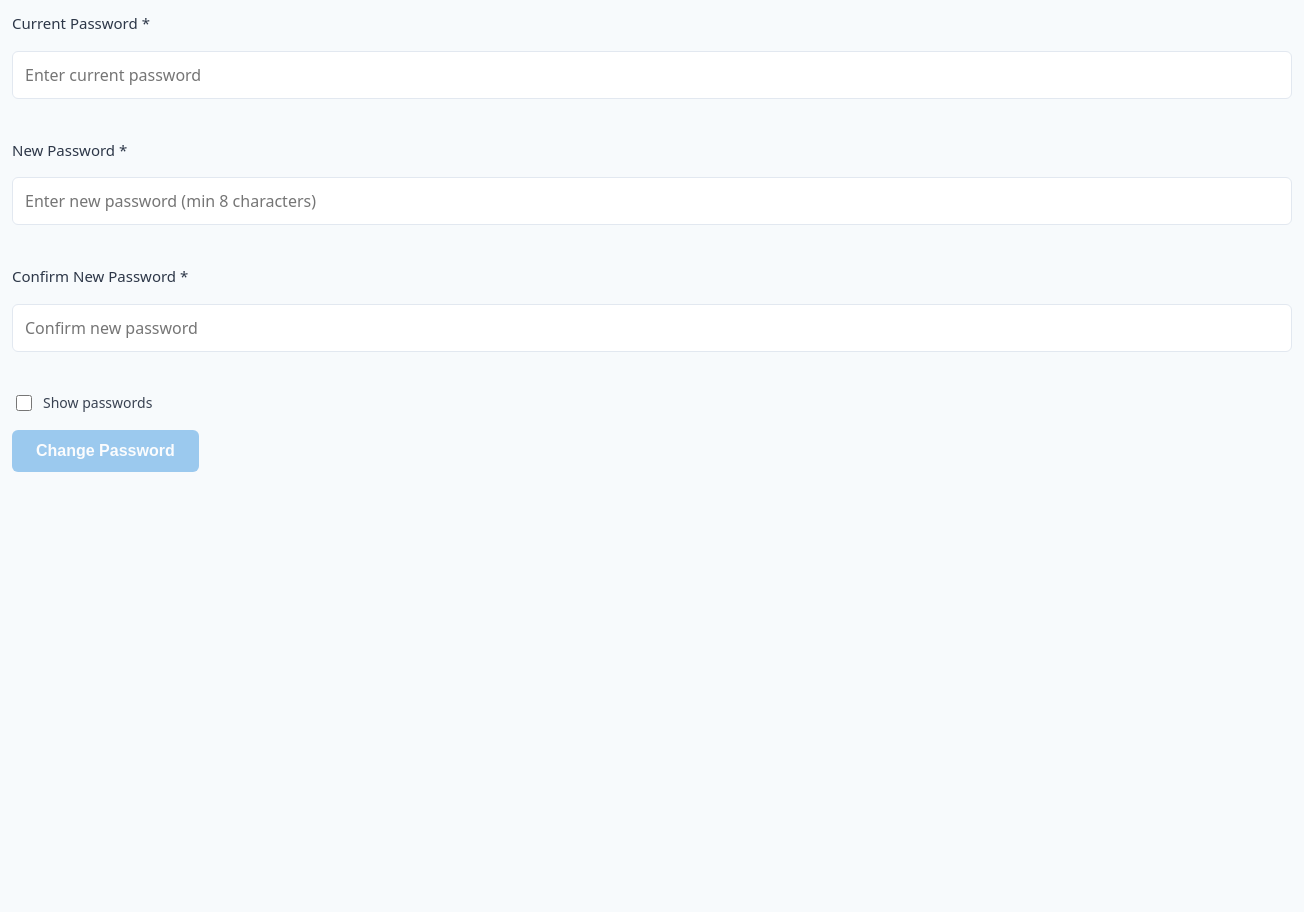
Test: PasswordChangeForm Component › should submit form and show success message
Type "old123456" into the password field labelled "Current Password *".
click(652, 74); type("old123456")  # box [12,50,1292,98]
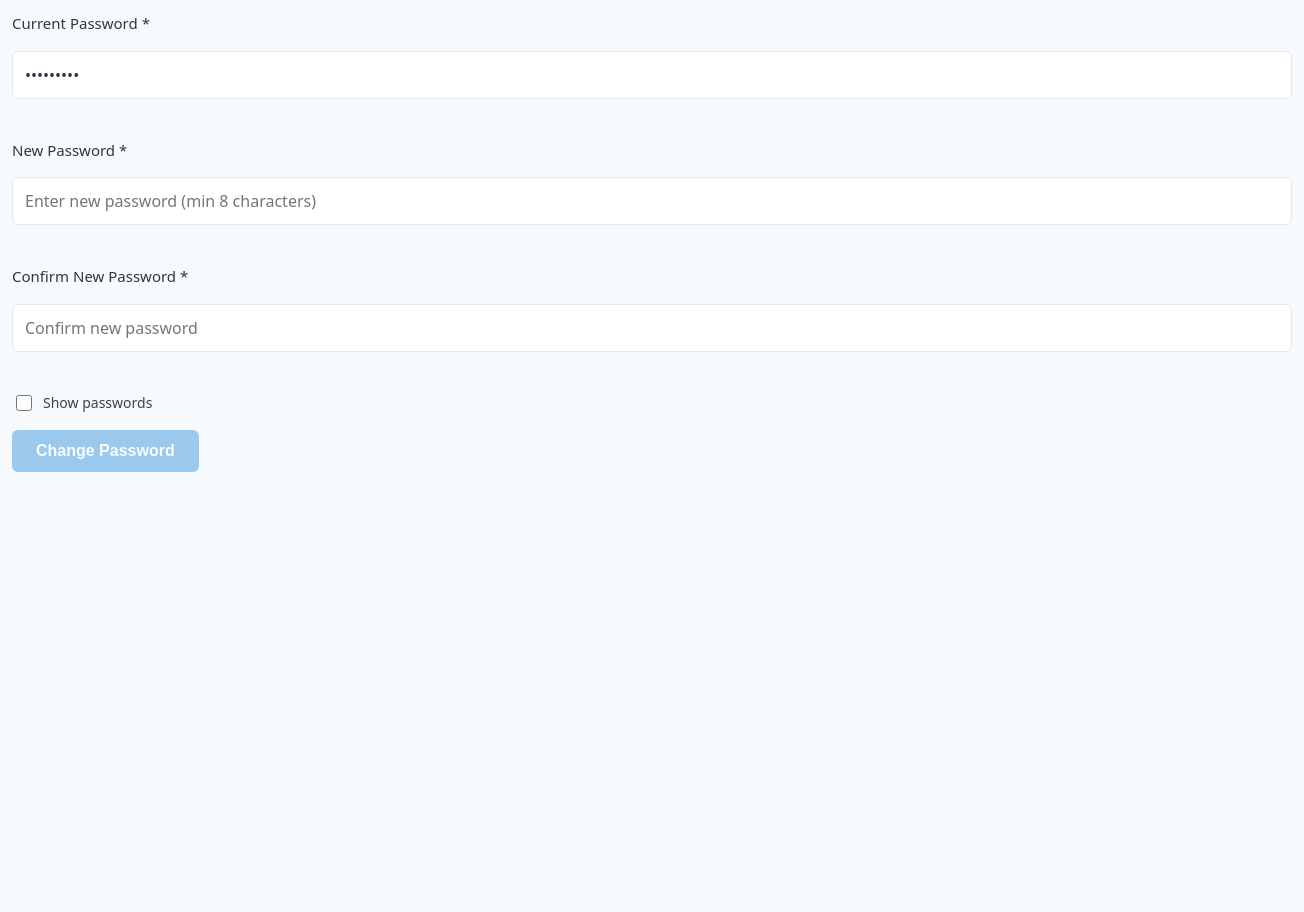
Type "new123456" into the password field labelled "New Password *".
click(652, 201); type("new123456")  # box [12,177,1292,225]
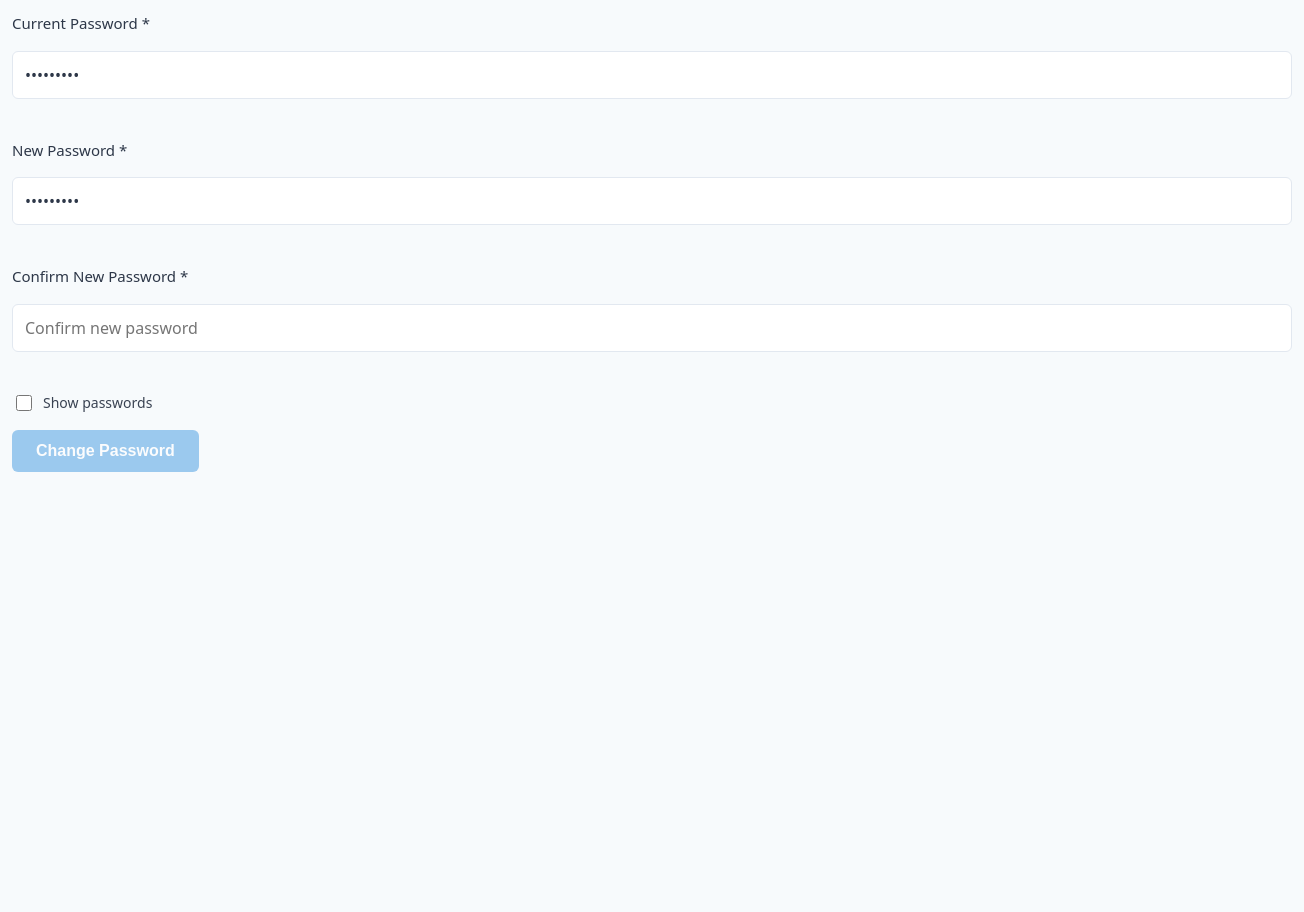
Type "new123456" into the password field labelled "Confirm New Password *".
click(652, 328); type("new123456")  # box [12,304,1292,352]
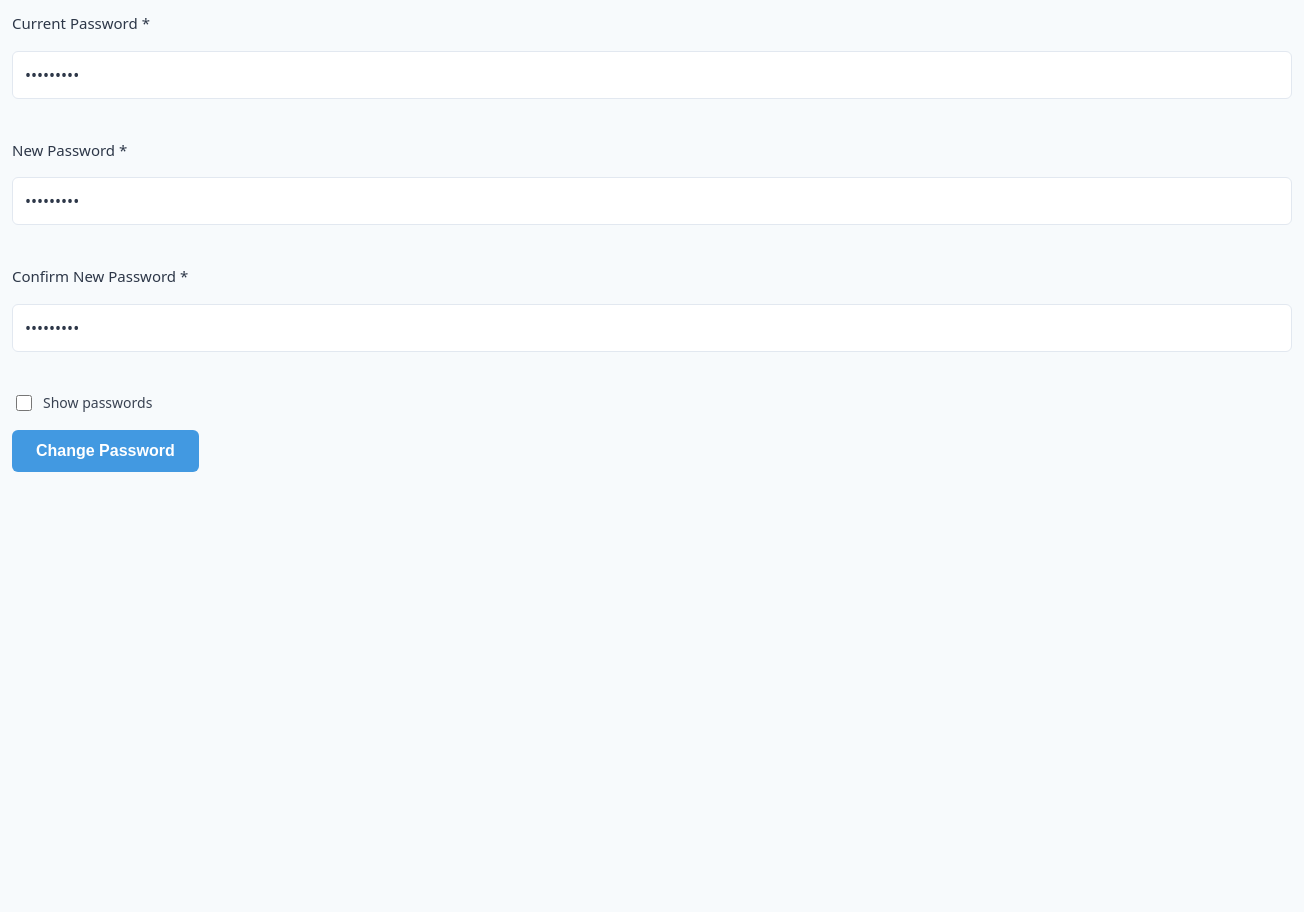
Click the button "Change Password".
click(105, 450)  # box [12,430,199,472]
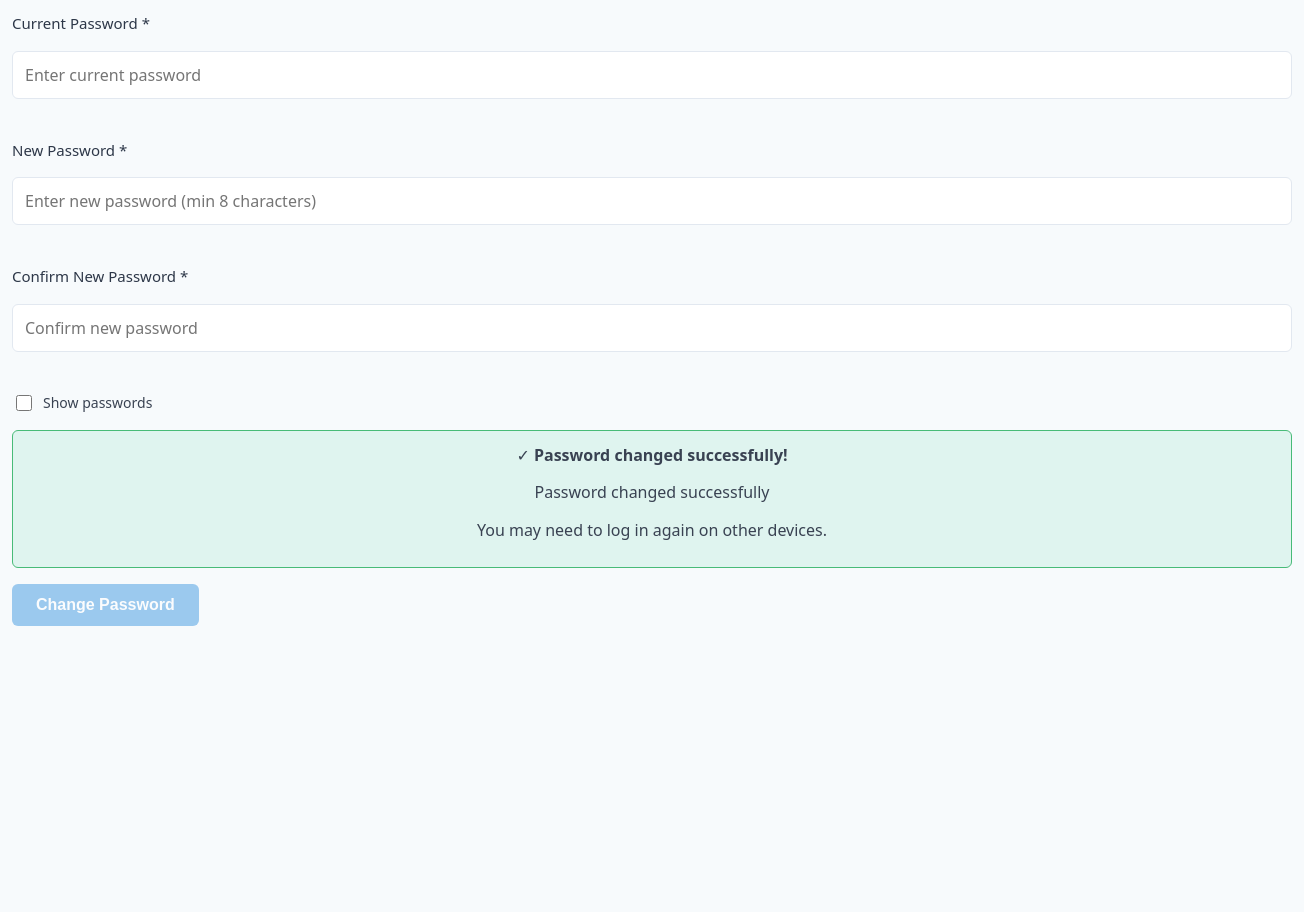
expect the message shows "Password changed successfully": met, box [534,481,769,503]
